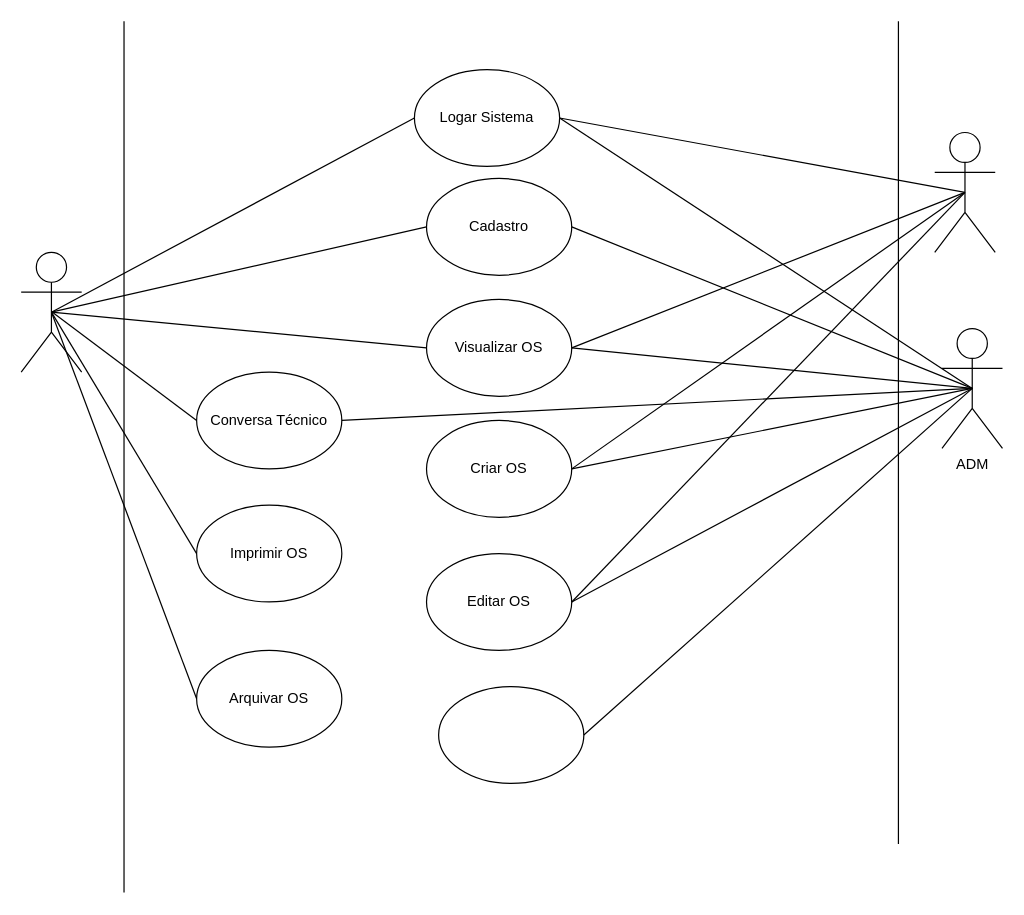
The diagram is 1024 pixels wide and 915 high, and some of its shapes have lost their labels. Each missing label, with the centre of its shape:
Encerrar OS: (x=510, y=734)
Técnico: (x=964, y=191)
Usuário: (x=51, y=311)
